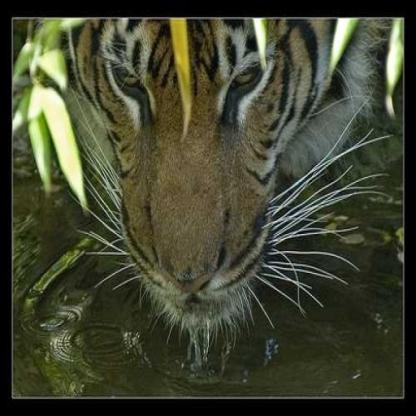Tiger: (47, 0, 350, 340)
